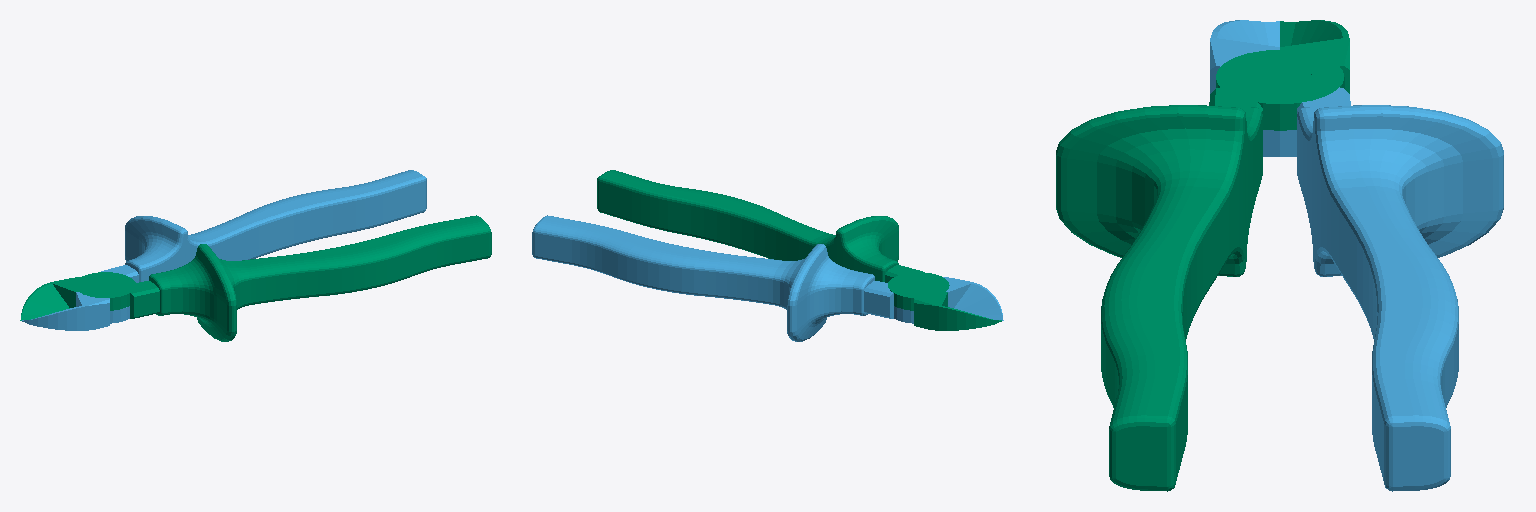
The robot description file, URDF, robot "partnet_1174fa9f-55a3-4e5d-8c78-2c2b9d300efc-1":
<?xml version="1.0" ?>
<robot name="partnet_1174fa9f-55a3-4e5d-8c78-2c2b9d300efc-1">
	<link name="base"/>
	<link name="link_0">
		<visual name="leg-1">
			<origin xyz="0 0 -0.6498597294837243"/>
			<geometry>
				<mesh filename="textured_objs/original-15.obj"/>
			</geometry>
		</visual>
		<visual name="leg-1">
			<origin xyz="0 0 -0.6498597294837243"/>
			<geometry>
				<mesh filename="textured_objs/original-16.obj"/>
			</geometry>
		</visual>
		<visual name="leg-1">
			<origin xyz="0 0 -0.6498597294837243"/>
			<geometry>
				<mesh filename="textured_objs/original-10.obj"/>
			</geometry>
		</visual>
		<collision>
			<origin xyz="0 0 -0.6498597294837243"/>
			<geometry>
				<mesh filename="textured_objs/original-15.obj"/>
			</geometry>
		</collision>
		<collision>
			<origin xyz="0 0 -0.6498597294837243"/>
			<geometry>
				<mesh filename="textured_objs/original-16.obj"/>
			</geometry>
		</collision>
		<collision>
			<origin xyz="0 0 -0.6498597294837243"/>
			<geometry>
				<mesh filename="textured_objs/original-10.obj"/>
			</geometry>
		</collision>
	</link>
	<joint name="joint_0" type="revolute">
		<origin xyz="0 0 0.6498597294837243"/>
		<axis xyz="0 1 0"/>
		<child link="link_0"/>
		<parent link="link_1"/>
		<limit lower="0.0" upper="1.7453292519943295"/>
	</joint>
	<link name="link_1">
		<visual name="base_body-2">
			<origin xyz="0 0 0"/>
			<geometry>
				<mesh filename="textured_objs/original-4.obj"/>
			</geometry>
		</visual>
		<visual name="base_body-2">
			<origin xyz="0 0 0"/>
			<geometry>
				<mesh filename="textured_objs/original-3.obj"/>
			</geometry>
		</visual>
		<visual name="base_body-2">
			<origin xyz="0 0 0"/>
			<geometry>
				<mesh filename="textured_objs/original-13.obj"/>
			</geometry>
		</visual>
		<visual name="base_body-2">
			<origin xyz="0 0 0"/>
			<geometry>
				<mesh filename="textured_objs/original-6.obj"/>
			</geometry>
		</visual>
		<visual name="base_body-2">
			<origin xyz="0 0 0"/>
			<geometry>
				<mesh filename="textured_objs/original-11.obj"/>
			</geometry>
		</visual>
		<visual name="base_body-2">
			<origin xyz="0 0 0"/>
			<geometry>
				<mesh filename="textured_objs/original-12.obj"/>
			</geometry>
		</visual>
		<visual name="base_body-2">
			<origin xyz="0 0 0"/>
			<geometry>
				<mesh filename="textured_objs/original-7.obj"/>
			</geometry>
		</visual>
		<collision>
			<origin xyz="0 0 0"/>
			<geometry>
				<mesh filename="textured_objs/original-4.obj"/>
			</geometry>
		</collision>
		<collision>
			<origin xyz="0 0 0"/>
			<geometry>
				<mesh filename="textured_objs/original-3.obj"/>
			</geometry>
		</collision>
		<collision>
			<origin xyz="0 0 0"/>
			<geometry>
				<mesh filename="textured_objs/original-13.obj"/>
			</geometry>
		</collision>
		<collision>
			<origin xyz="0 0 0"/>
			<geometry>
				<mesh filename="textured_objs/original-6.obj"/>
			</geometry>
		</collision>
		<collision>
			<origin xyz="0 0 0"/>
			<geometry>
				<mesh filename="textured_objs/original-11.obj"/>
			</geometry>
		</collision>
		<collision>
			<origin xyz="0 0 0"/>
			<geometry>
				<mesh filename="textured_objs/original-12.obj"/>
			</geometry>
		</collision>
		<collision>
			<origin xyz="0 0 0"/>
			<geometry>
				<mesh filename="textured_objs/original-7.obj"/>
			</geometry>
		</collision>
	</link>
	<joint name="joint_1" type="fixed">
		<origin rpy="1.570796326794897 0 -1.570796326794897" xyz="0 0 0"/>
		<child link="link_1"/>
		<parent link="base"/>
	</joint>
</robot>

--- What the picture shows (computed from the rendered views, not written in the file) ---
3 views of the same robot in one strip: view 1: azimuth 30°, elevation 25°; view 2: azimuth 150°, elevation 25°; view 3: azimuth 270°, elevation 25° (orthographic).
Model partnet_1174fa9f-55a3-4e5d-8c78-2c2b9d300efc-1 with 3 links and 2 joints (1 revolute, 1 fixed), rooted at base, posed all joints at 0.
Visible links, largest first — view 1: link_1, link_0; view 2: link_0, link_1; view 3: link_1, link_0.
Boxes of the visible links, x1=… form: link_1: x1=20, y1=215, x2=491, y2=341; link_0: x1=22, y1=170, x2=426, y2=330; link_0: x1=532, y1=215, x2=1003, y2=341; link_1: x1=597, y1=170, x2=1001, y2=330; link_1: x1=1056, y1=20, x2=1349, y2=491; link_0: x1=1210, y1=20, x2=1503, y2=491.
Bounding box of the posed robot: 1.98 × 0.8552 × 0.3489 m (x, y, z).
10 mesh visuals loaded from 10 distinct referenced files (10 OBJ).